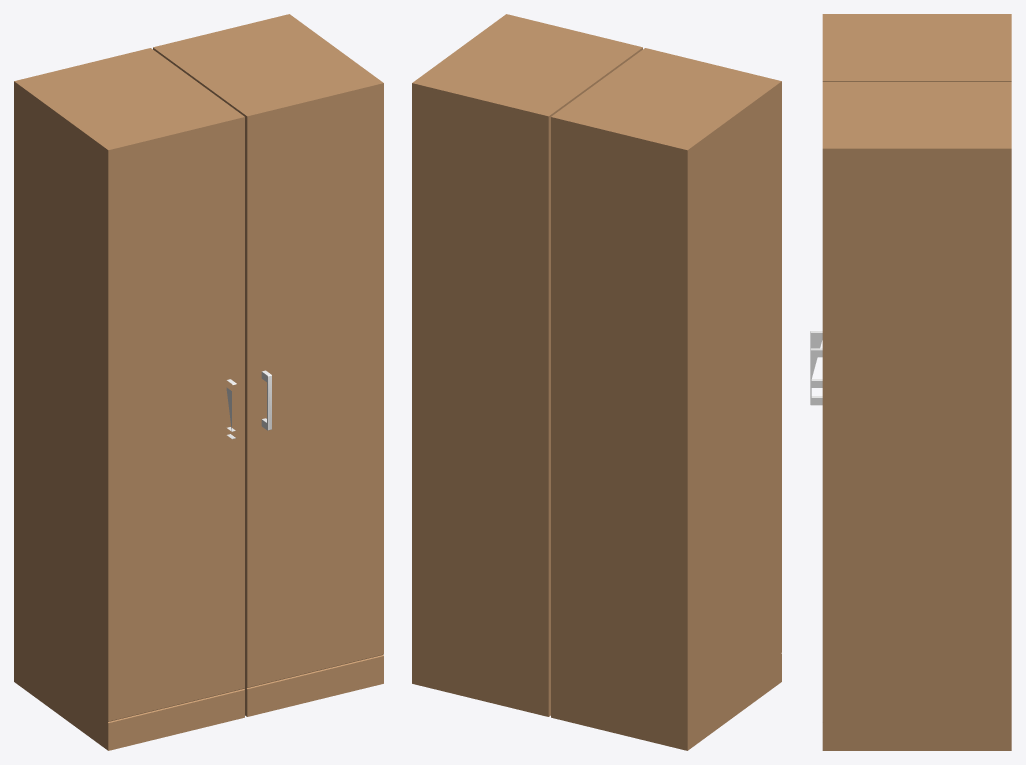
The model's file is DBL WR - cherry.glb.
The picture shows the model from 3 angles, left to right: view 1: azimuth 30°, elevation 25°; view 2: azimuth 150°, elevation 25°; view 3: azimuth 270°, elevation 25°; orthographic projection.
Parts seen in each view (by area): view 1: Mesh10 SHUTTER_2_2 Model, Mesh5 SHUTTER_2_1 Model, Mesh7 CP10000251_SHUTTER2 CP10000263CABINET2 Model, Mesh2 CP10000251_SHUTTER1 CP10000263CABINET1 Model, Mesh9 SHUTTER_5_2 Model, Mesh4 SHUTTER_5_1 Model; view 2: Mesh7 CP10000251_SHUTTER2 CP10000263CABINET2 Model, Mesh2 CP10000251_SHUTTER1 CP10000263CABINET1 Model, Mesh10 SHUTTER_2_2 Model; view 3: Mesh2 CP10000251_SHUTTER1 CP10000263CABINET1 Model, Mesh7 CP10000251_SHUTTER2 CP10000263CABINET2 Model, Mesh5 SHUTTER_2_1 Model, Mesh10 SHUTTER_2_2 Model, Mesh8 BASE_HANDLE_2_2 Model.
Part boxes in pixels (box(x1,y1,x2,y2)): Mesh10 SHUTTER_2_2 Model: box(105, 115, 244, 721); Mesh5 SHUTTER_2_1 Model: box(244, 81, 383, 687); Mesh7 CP10000251_SHUTTER2 CP10000263CABINET2 Model: box(14, 48, 241, 748); Mesh2 CP10000251_SHUTTER1 CP10000263CABINET1 Model: box(153, 14, 380, 115); Mesh9 SHUTTER_5_2 Model: box(105, 688, 244, 750); Mesh4 SHUTTER_5_1 Model: box(244, 655, 383, 716); Mesh7 CP10000251_SHUTTER2 CP10000263CABINET2 Model: box(551, 50, 778, 750); Mesh2 CP10000251_SHUTTER1 CP10000263CABINET1 Model: box(412, 16, 640, 716); Mesh10 SHUTTER_2_2 Model: box(643, 48, 781, 654); Mesh2 CP10000251_SHUTTER1 CP10000263CABINET1 Model: box(828, 82, 1011, 750); Mesh7 CP10000251_SHUTTER2 CP10000263CABINET2 Model: box(828, 14, 1011, 81); Mesh5 SHUTTER_2_1 Model: box(822, 82, 828, 722); Mesh10 SHUTTER_2_2 Model: box(822, 14, 828, 81); Mesh8 BASE_HANDLE_2_2 Model: box(810, 331, 822, 387).
Size of the model in its own units: 1008 by 2100 by 637.
